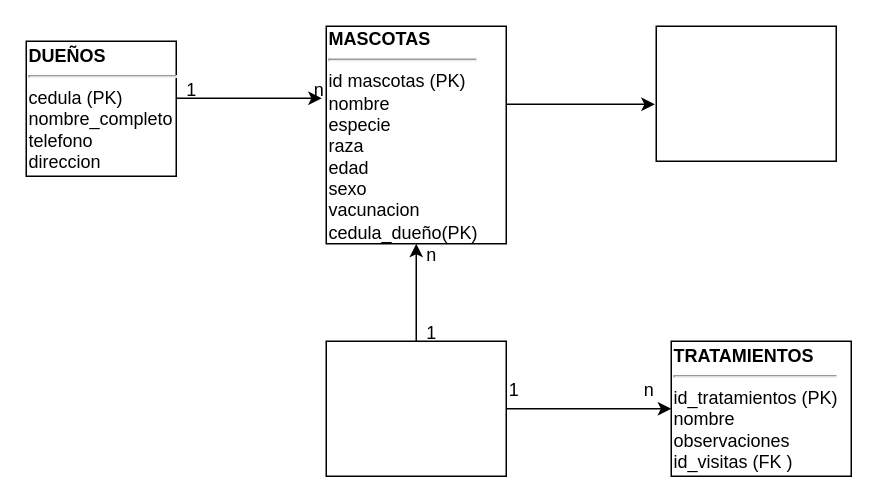
The diagram is 878 pixels wide and 503 high, and some of its shapes have lost their labels. Each missing label, with the centre of its shape:
SERVICIOS id_servicios (PK) nombre descripcion precio_base: the point at 745,93
VISITAS id_visita (PK) id_mascota (FK) id_servicio (FK) fecha: the point at 415,408
